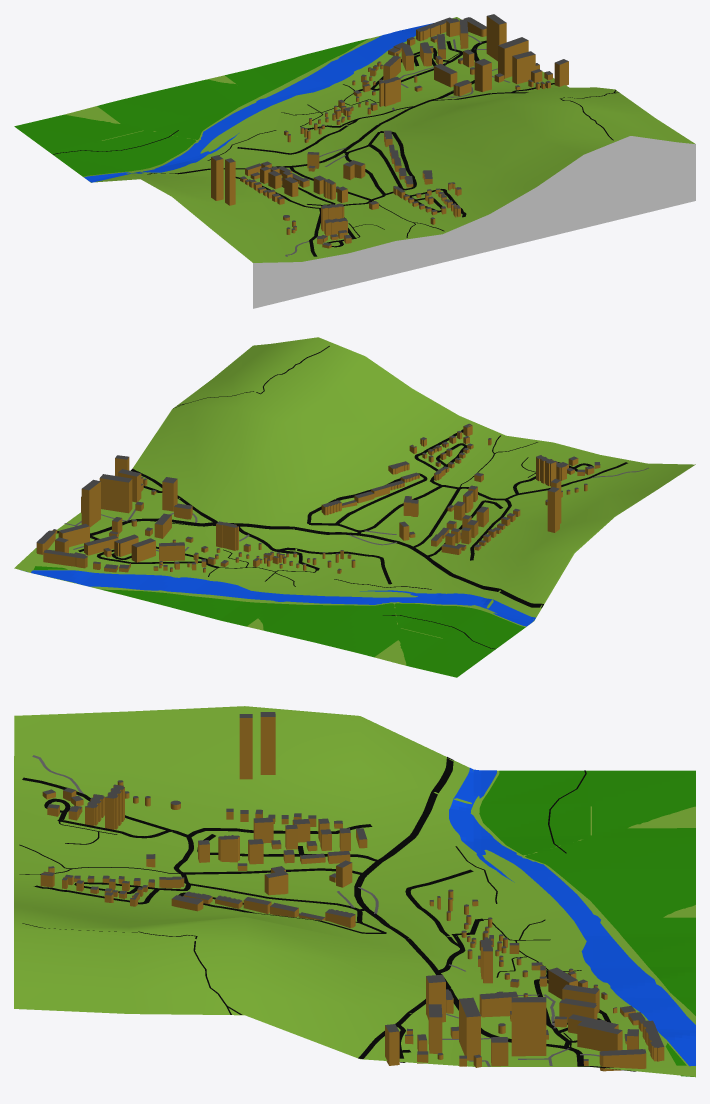
Rendered from tile_04_00.glb.
3 views of the same model, one above another, from view 1: azimuth 30°, elevation 25°; view 2: azimuth 150°, elevation 25°; view 3: azimuth 270°, elevation 25° (orthographic). The views are drawn at different scales.
Parts seen in each view (by area): view 1: Terrain_04_00, Ub_small.osm_buildings_04_00, Ub_small.osm_vegetation_04_00, Ub_small.osm_water_04_00, Ub_small.osm_roads_residential_04_00, Ub_small.osm_paths_footway_04_00, Ub_small.osm_roads_primary_04_00, Ub_small.osm_roads_unclassified_04_00; view 2: Terrain_04_00, Ub_small.osm_buildings_04_00, Ub_small.osm_vegetation_04_00, Ub_small.osm_water_04_00, Ub_small.osm_roads_residential_04_00, Ub_small.osm_roads_primary_04_00, Ub_small.osm_roads_unclassified_04_00, Ub_small.osm_paths_footway_04_00; view 3: Terrain_04_00, Ub_small.osm_buildings_04_00, Ub_small.osm_vegetation_04_00, Ub_small.osm_water_04_00, Ub_small.osm_roads_residential_04_00, Ub_small.osm_roads_primary_04_00, Ub_small.osm_roads_unclassified_04_00, Ub_small.osm_paths_footway_04_00, Ub_small.osm_roads_service_04_00.
Boxes of the visible parts, bbox=[...] form: Terrain_04_00: bbox=[65, 17, 695, 308]; Ub_small.osm_buildings_04_00: bbox=[211, 14, 568, 248]; Ub_small.osm_vegetation_04_00: bbox=[14, 38, 368, 176]; Ub_small.osm_water_04_00: bbox=[84, 23, 433, 182]; Ub_small.osm_roads_residential_04_00: bbox=[237, 41, 554, 256]; Ub_small.osm_paths_footway_04_00: bbox=[53, 41, 619, 238]; Ub_small.osm_roads_primary_04_00: bbox=[147, 40, 486, 174]; Ub_small.osm_roads_unclassified_04_00: bbox=[235, 132, 386, 208]; Terrain_04_00: bbox=[14, 337, 695, 665]; Ub_small.osm_buildings_04_00: bbox=[36, 423, 600, 573]; Ub_small.osm_vegetation_04_00: bbox=[33, 566, 525, 677]; Ub_small.osm_water_04_00: bbox=[21, 570, 535, 626]; Ub_small.osm_roads_residential_04_00: bbox=[78, 429, 627, 584]; Ub_small.osm_roads_primary_04_00: bbox=[57, 518, 543, 607]; Ub_small.osm_roads_unclassified_04_00: bbox=[309, 485, 511, 560]; Ub_small.osm_paths_footway_04_00: bbox=[90, 346, 560, 649]; Terrain_04_00: bbox=[14, 706, 695, 1076]; Ub_small.osm_buildings_04_00: bbox=[40, 712, 664, 1071]; Ub_small.osm_vegetation_04_00: bbox=[479, 770, 695, 1077]; Ub_small.osm_water_04_00: bbox=[449, 768, 695, 1066]; Ub_small.osm_roads_residential_04_00: bbox=[22, 777, 635, 1071]; Ub_small.osm_roads_primary_04_00: bbox=[354, 757, 583, 1066]; Ub_small.osm_roads_unclassified_04_00: bbox=[173, 824, 386, 933]; Ub_small.osm_paths_footway_04_00: bbox=[19, 770, 586, 1066]; Ub_small.osm_roads_service_04_00: bbox=[32, 755, 599, 1066].
Size of the model in its own units: 988 by 171 by 914.
